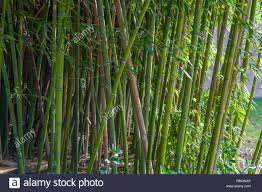bamboo: (6, 4, 253, 172)
